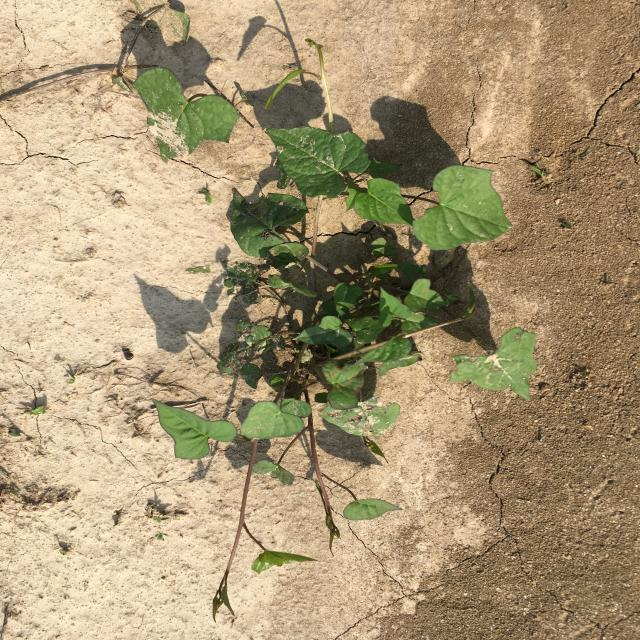MorningGlory: (111, 1, 539, 622)
